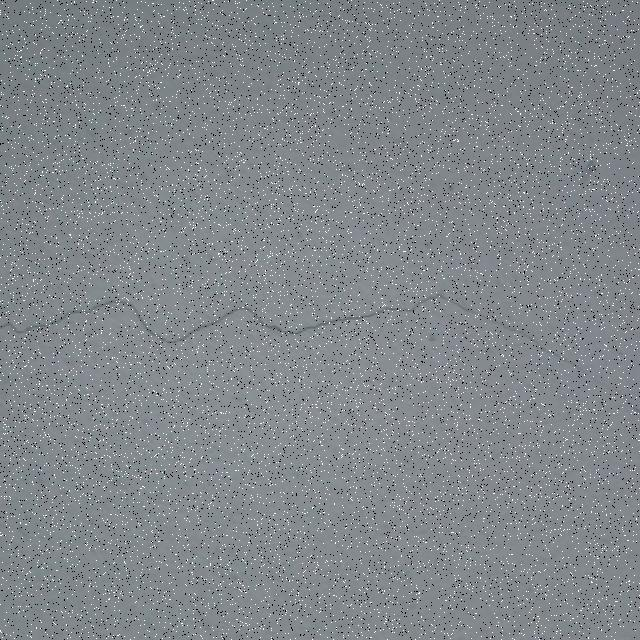severe crack: (8, 287, 485, 347), (436, 289, 619, 349), (145, 275, 252, 314), (274, 308, 373, 333)
